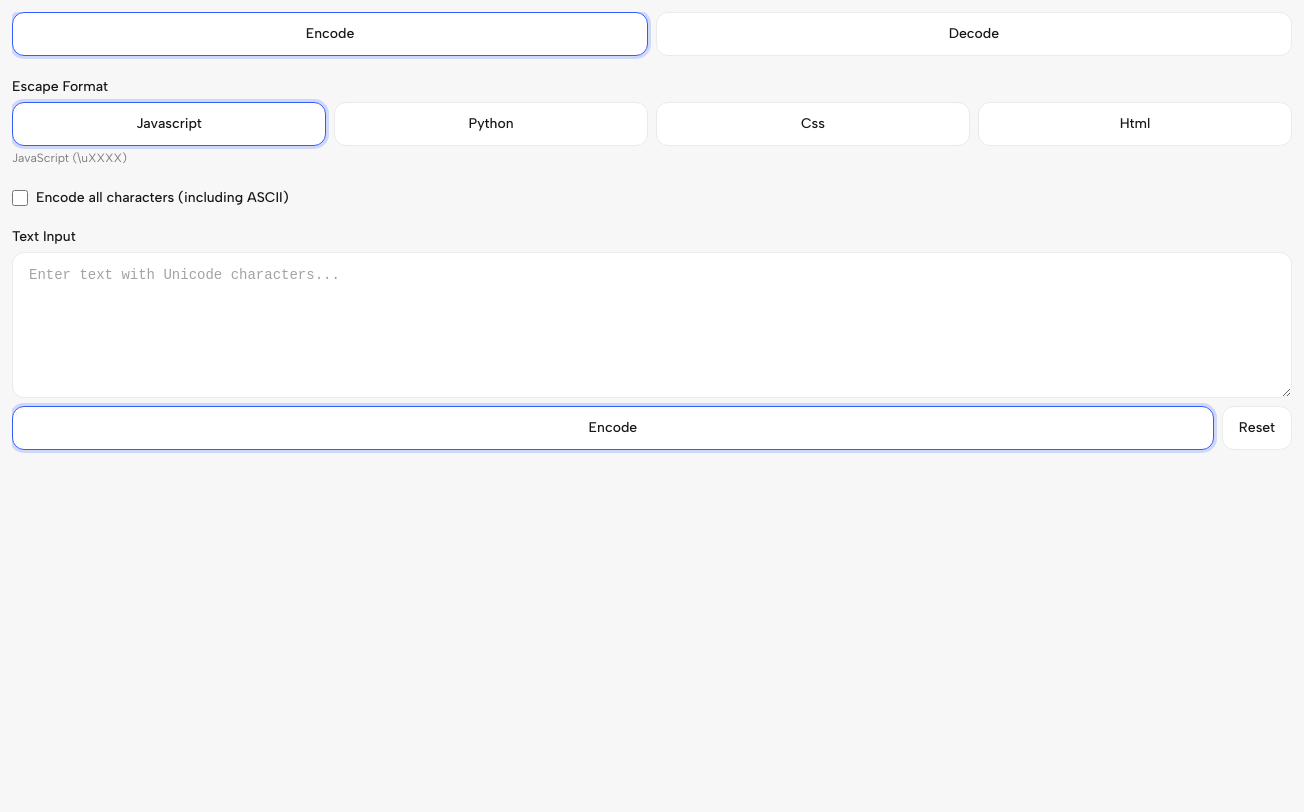
Test: UnicodeEscapeTool › encodes to HTML entities
// Switch to HTML format
Click the button "Html" at (1135, 124), box 978,102 -> 1292,146
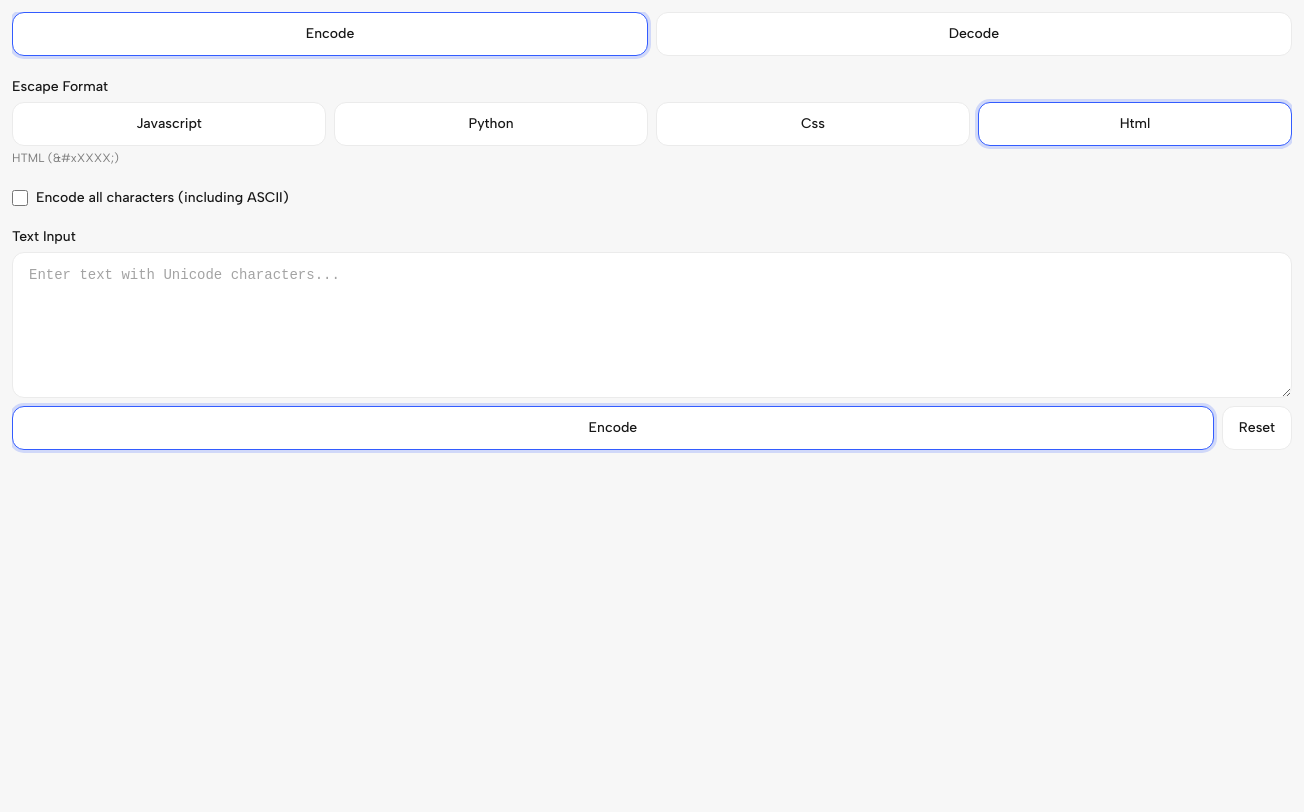
Type "A" into the text box with placeholder "Enter text with Unicode characters..." at (652, 325), box 12,252 -> 1292,398
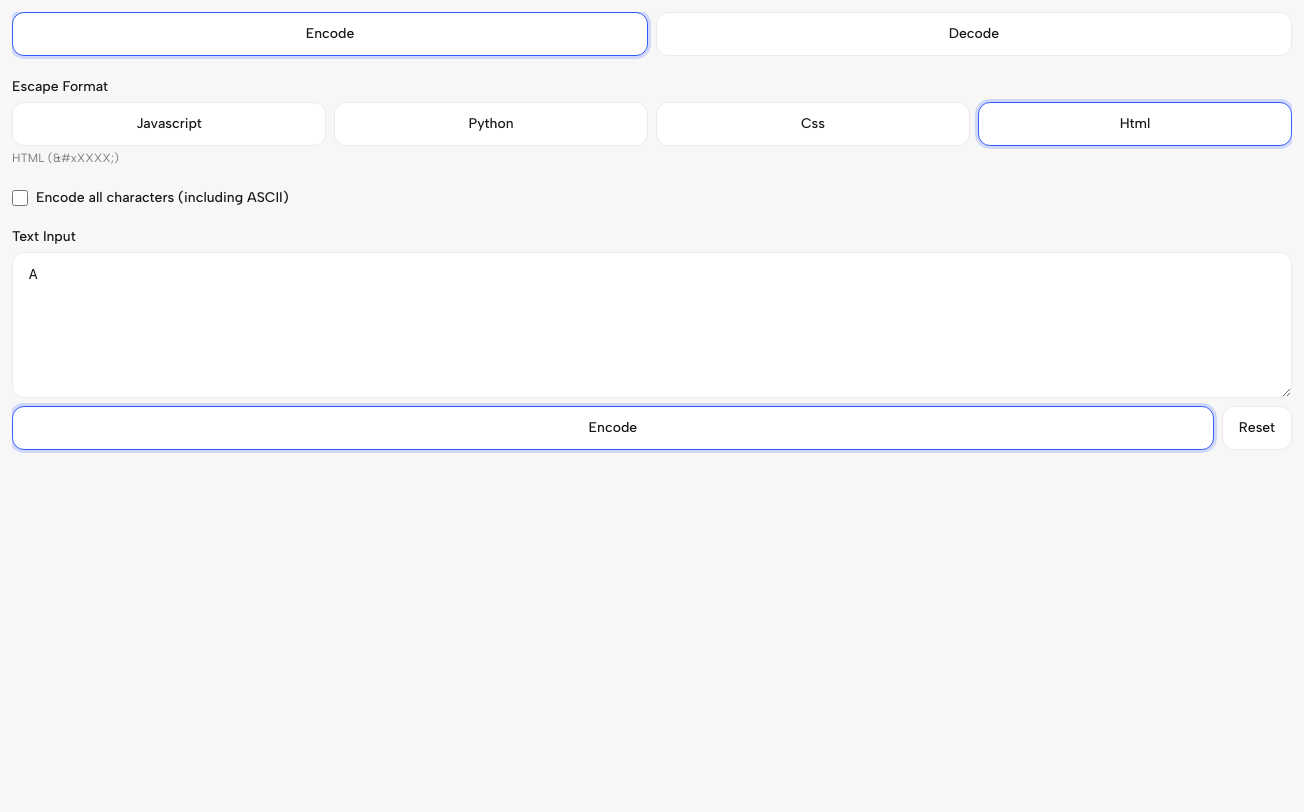
Click the button "Encode" below "Text Input" at (613, 428), box 12,406 -> 1214,450
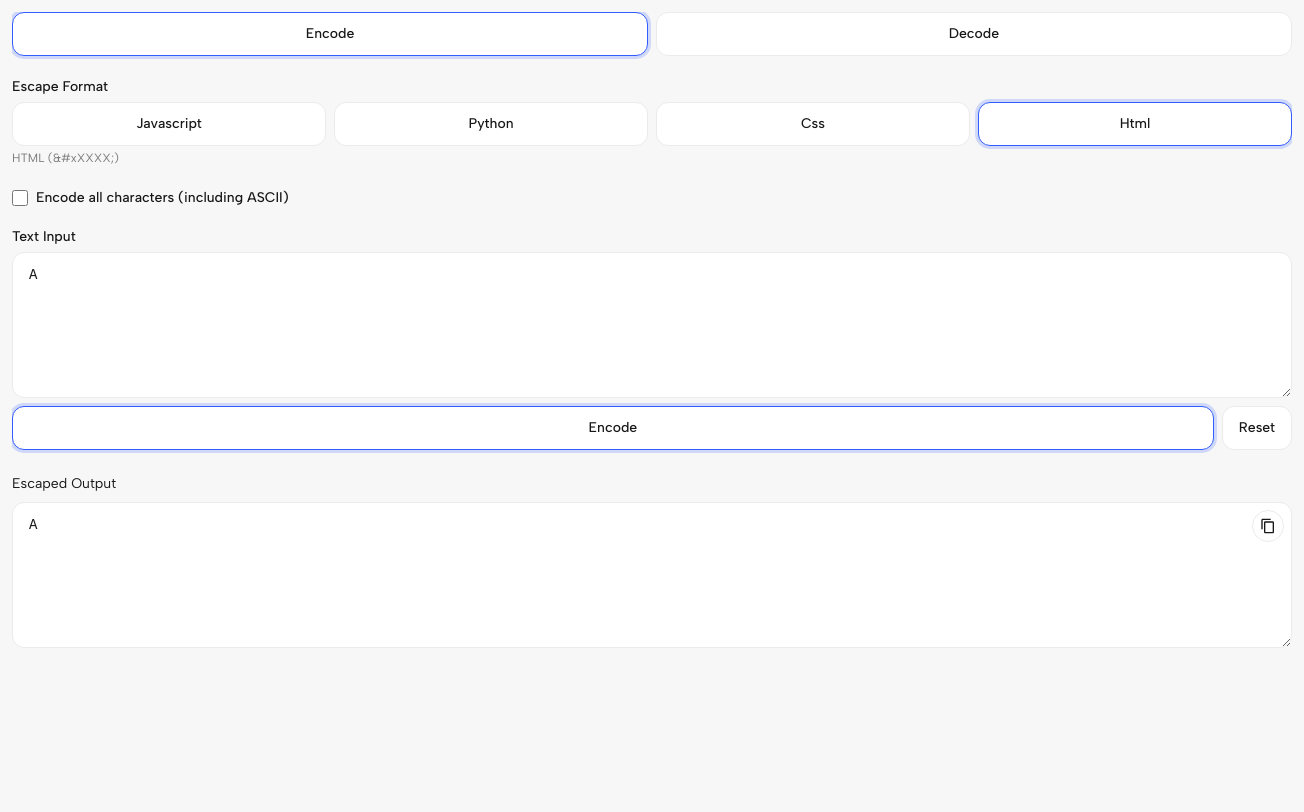
Result: the text "Escaped Output" is shown at 12,475 -> 116,492
